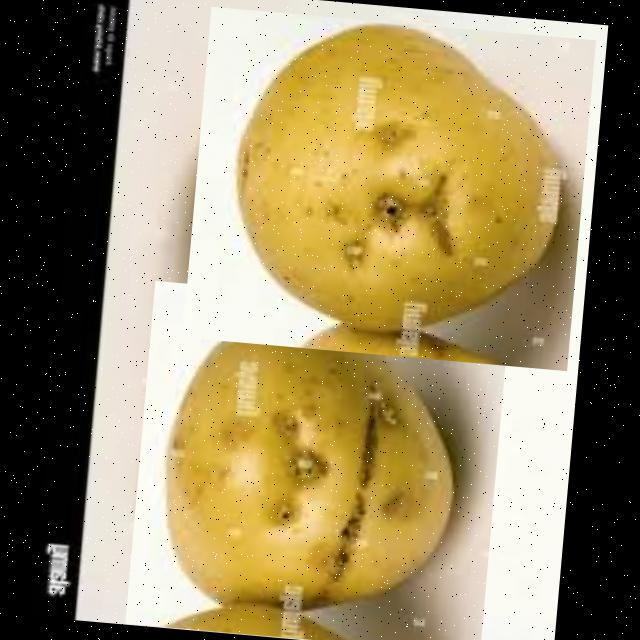Defected potato: (182, 6, 596, 370), (124, 279, 509, 640)
